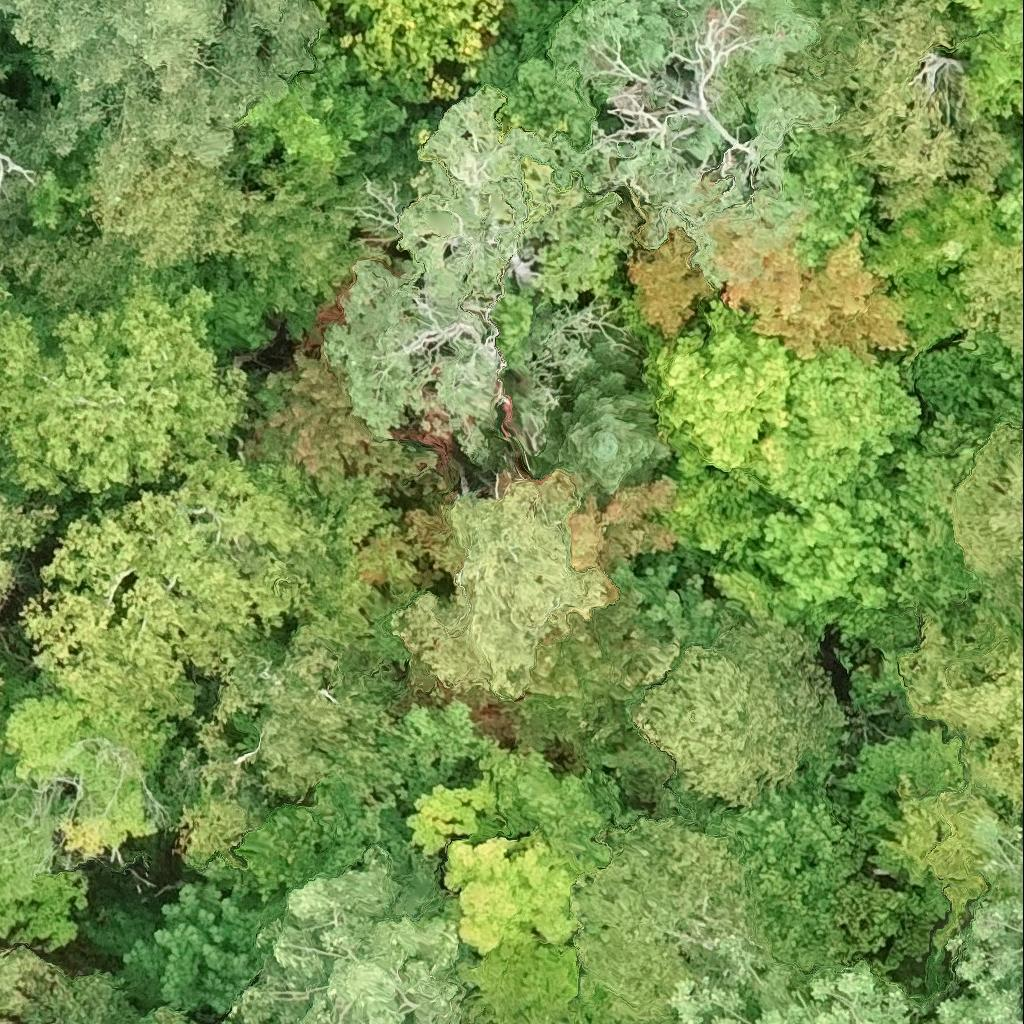crown: (21, 447, 398, 731), (325, 86, 556, 452), (162, 585, 424, 897), (406, 698, 632, 1023), (548, 0, 837, 239), (0, 0, 319, 191), (0, 285, 251, 501), (0, 669, 190, 949), (786, 0, 1018, 221), (718, 425, 929, 666), (393, 470, 606, 700), (218, 835, 471, 1023), (6, 134, 270, 308), (630, 625, 845, 809), (571, 813, 758, 1023), (685, 196, 906, 361), (882, 590, 1023, 818), (842, 420, 984, 645), (510, 583, 693, 756), (731, 348, 922, 509), (642, 297, 797, 473), (241, 351, 430, 483), (672, 938, 934, 1023), (925, 810, 1023, 1023), (646, 451, 794, 583), (947, 421, 1023, 631), (544, 374, 671, 493), (354, 0, 500, 101), (628, 228, 713, 336), (950, 0, 1023, 121), (0, 452, 57, 593), (58, 974, 194, 1023), (0, 944, 72, 1023), (993, 164, 1023, 235), (972, 0, 1023, 36), (26, 1014, 43, 1023), (467, 1022, 480, 1023)
